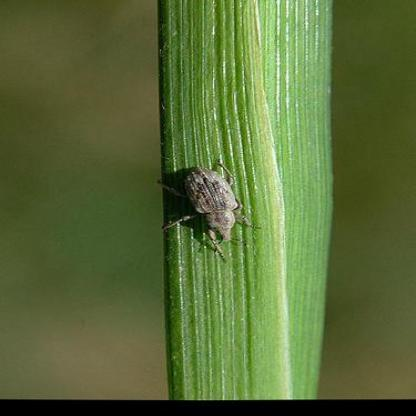rice-bug: (169, 162, 252, 252)
